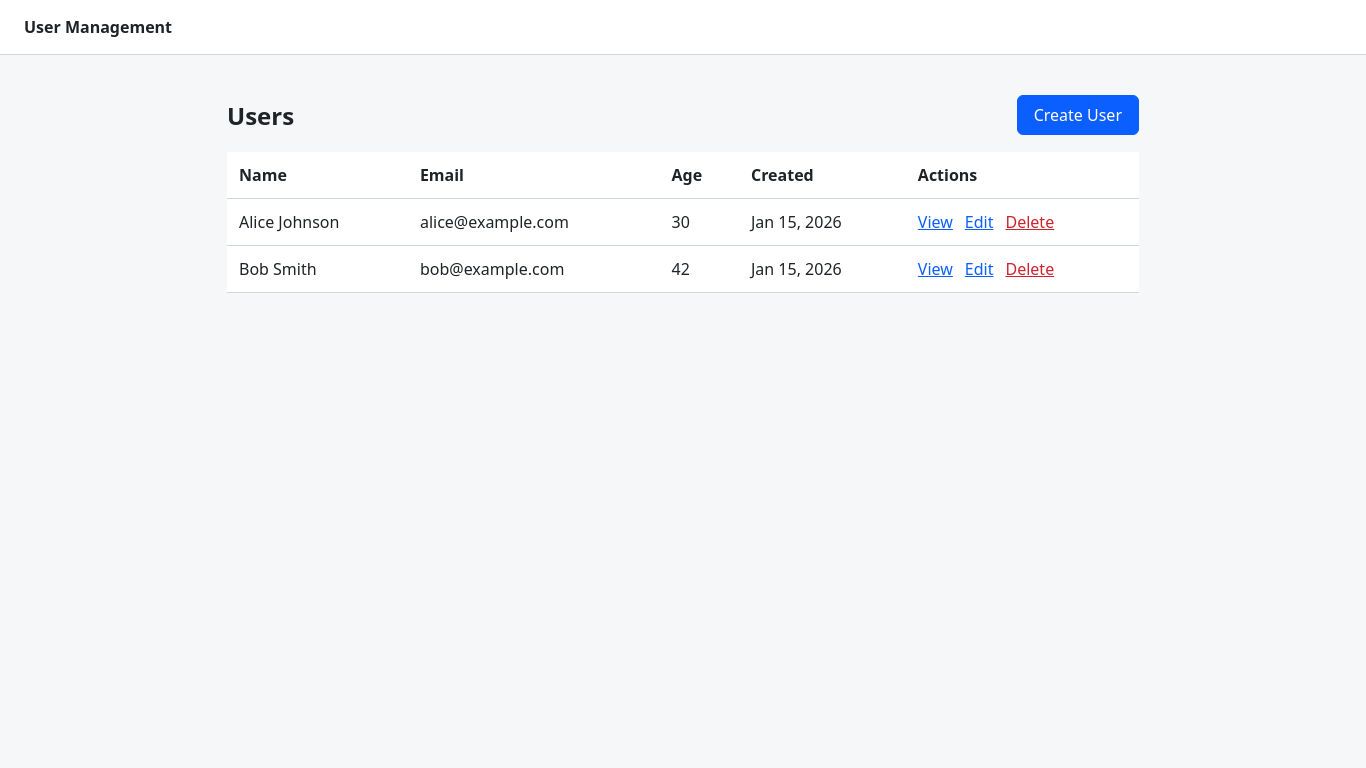
it: Users list page › deleting a user › keeps the user and shows the error when deletion fails
Click the button with aria-label "Delete Alice Johnson".
click(1030, 222)  # box [1006,211,1054,233]
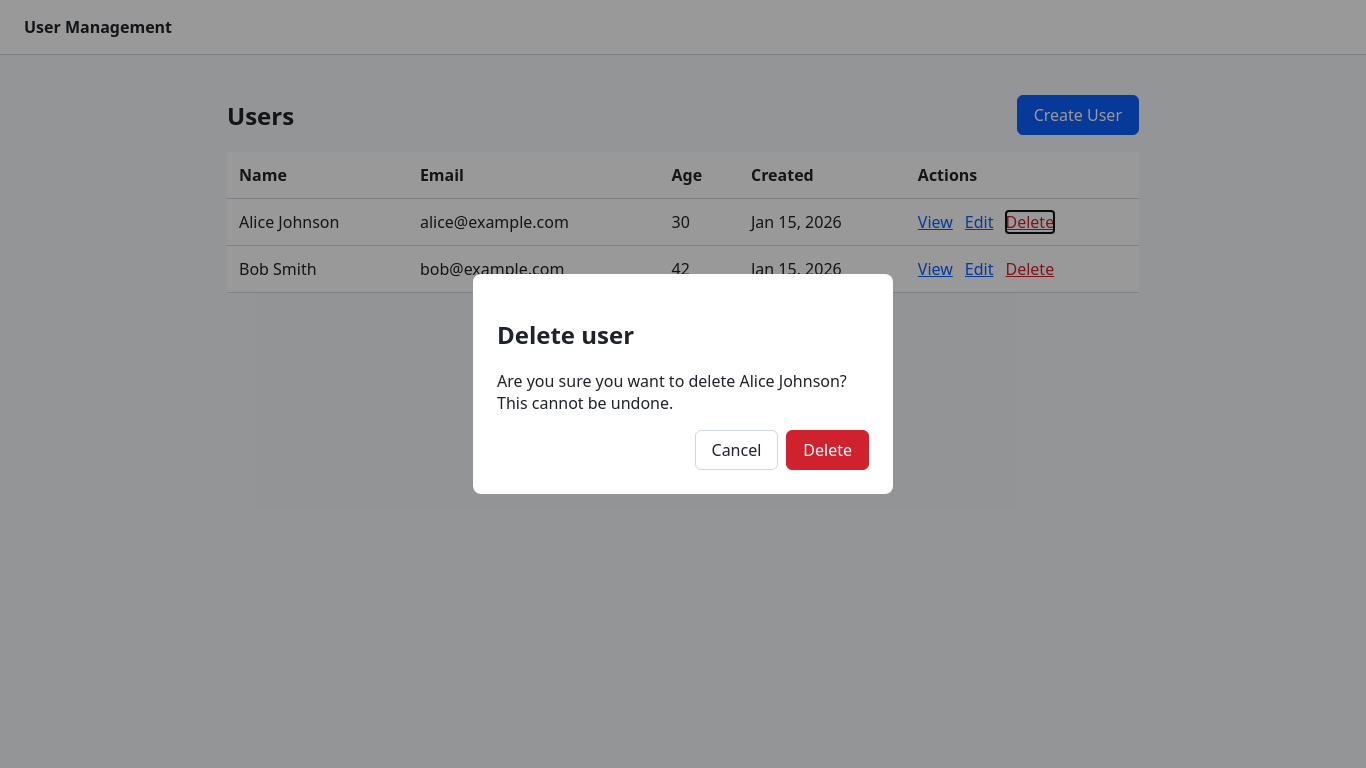
Click the button "Delete".
click(828, 450)  # box [786,430,869,470]
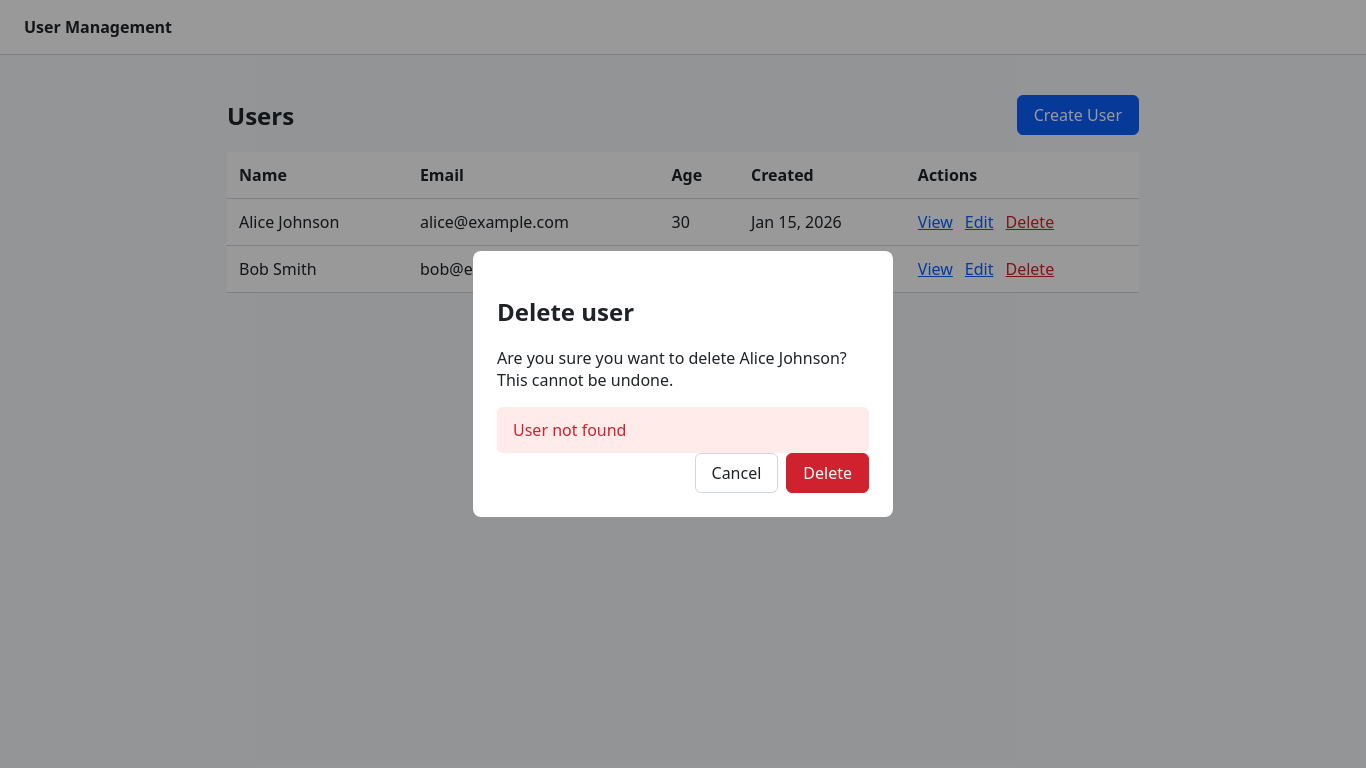
Check: the cell "Alice Johnson" is shown, box [227,198,408,246]
Check: the message reads "User not found", box [513,419,626,441]
